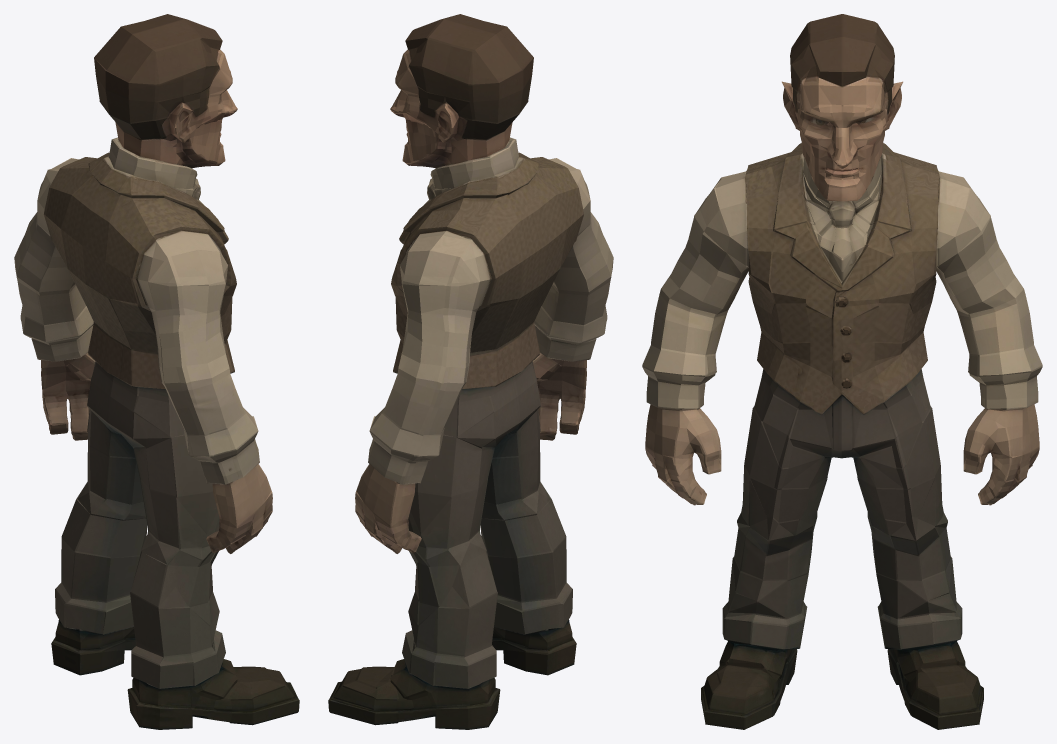
The model's file is tripo_convert_087e25e8-35a1-4861-beee-196e02cbcb4b.fbx.
The picture shows the model from 3 angles, left to right: view 1: azimuth 30°, elevation 25°; view 2: azimuth 150°, elevation 25°; view 3: azimuth 270°, elevation 25°; orthographic projection.
Parts seen in each view (by area): view 1: tripo_node_087e25e8; view 2: tripo_node_087e25e8; view 3: tripo_node_087e25e8.
Part boxes in pixels (x1,y1,x2,y2): tripo_node_087e25e8: [14, 14, 299, 729]; tripo_node_087e25e8: [328, 14, 613, 729]; tripo_node_087e25e8: [642, 14, 1042, 729].
Bounding box in the file's own units: 0.2564 × 1 × 0.546.
Materials: 1 (1 with a texture image).
